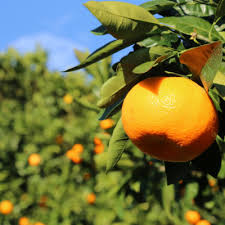orange: (119, 77, 222, 164)
